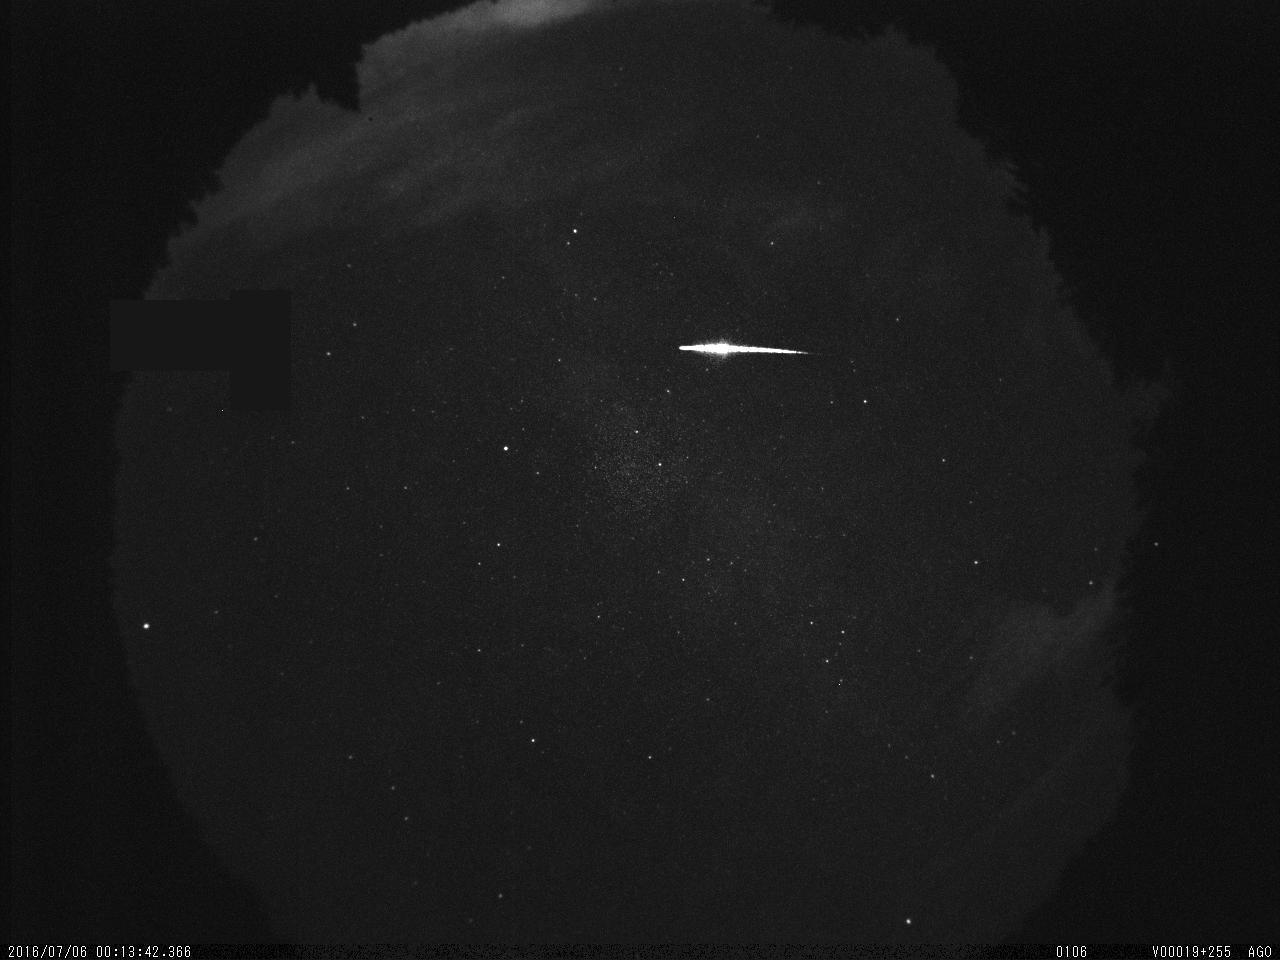meteor: (670, 325, 822, 372)
